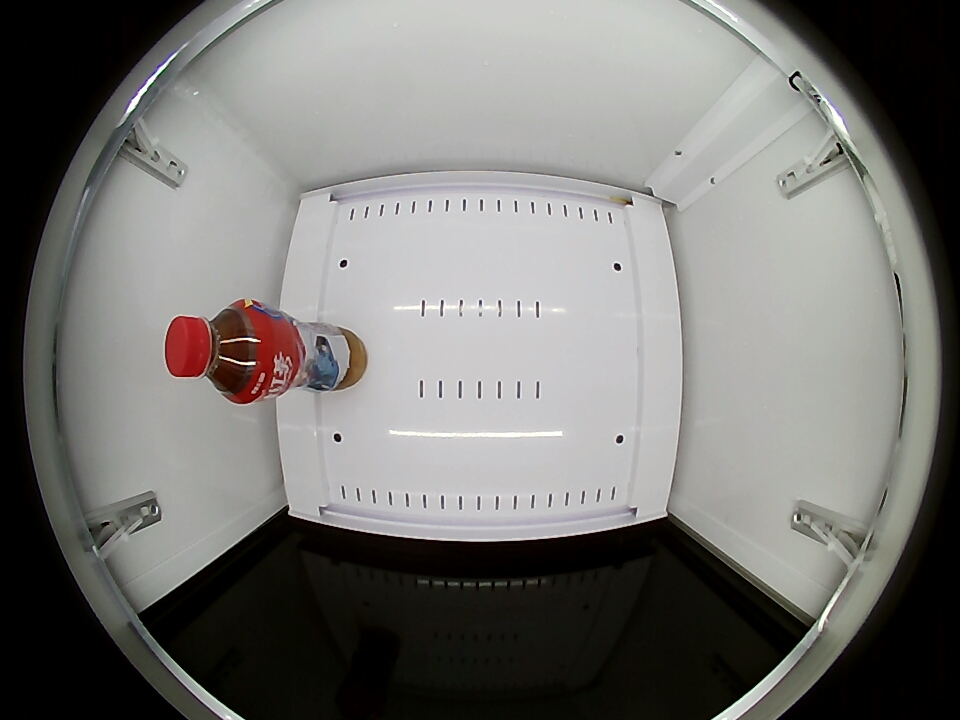binghongcha: (165, 299, 271, 404)
